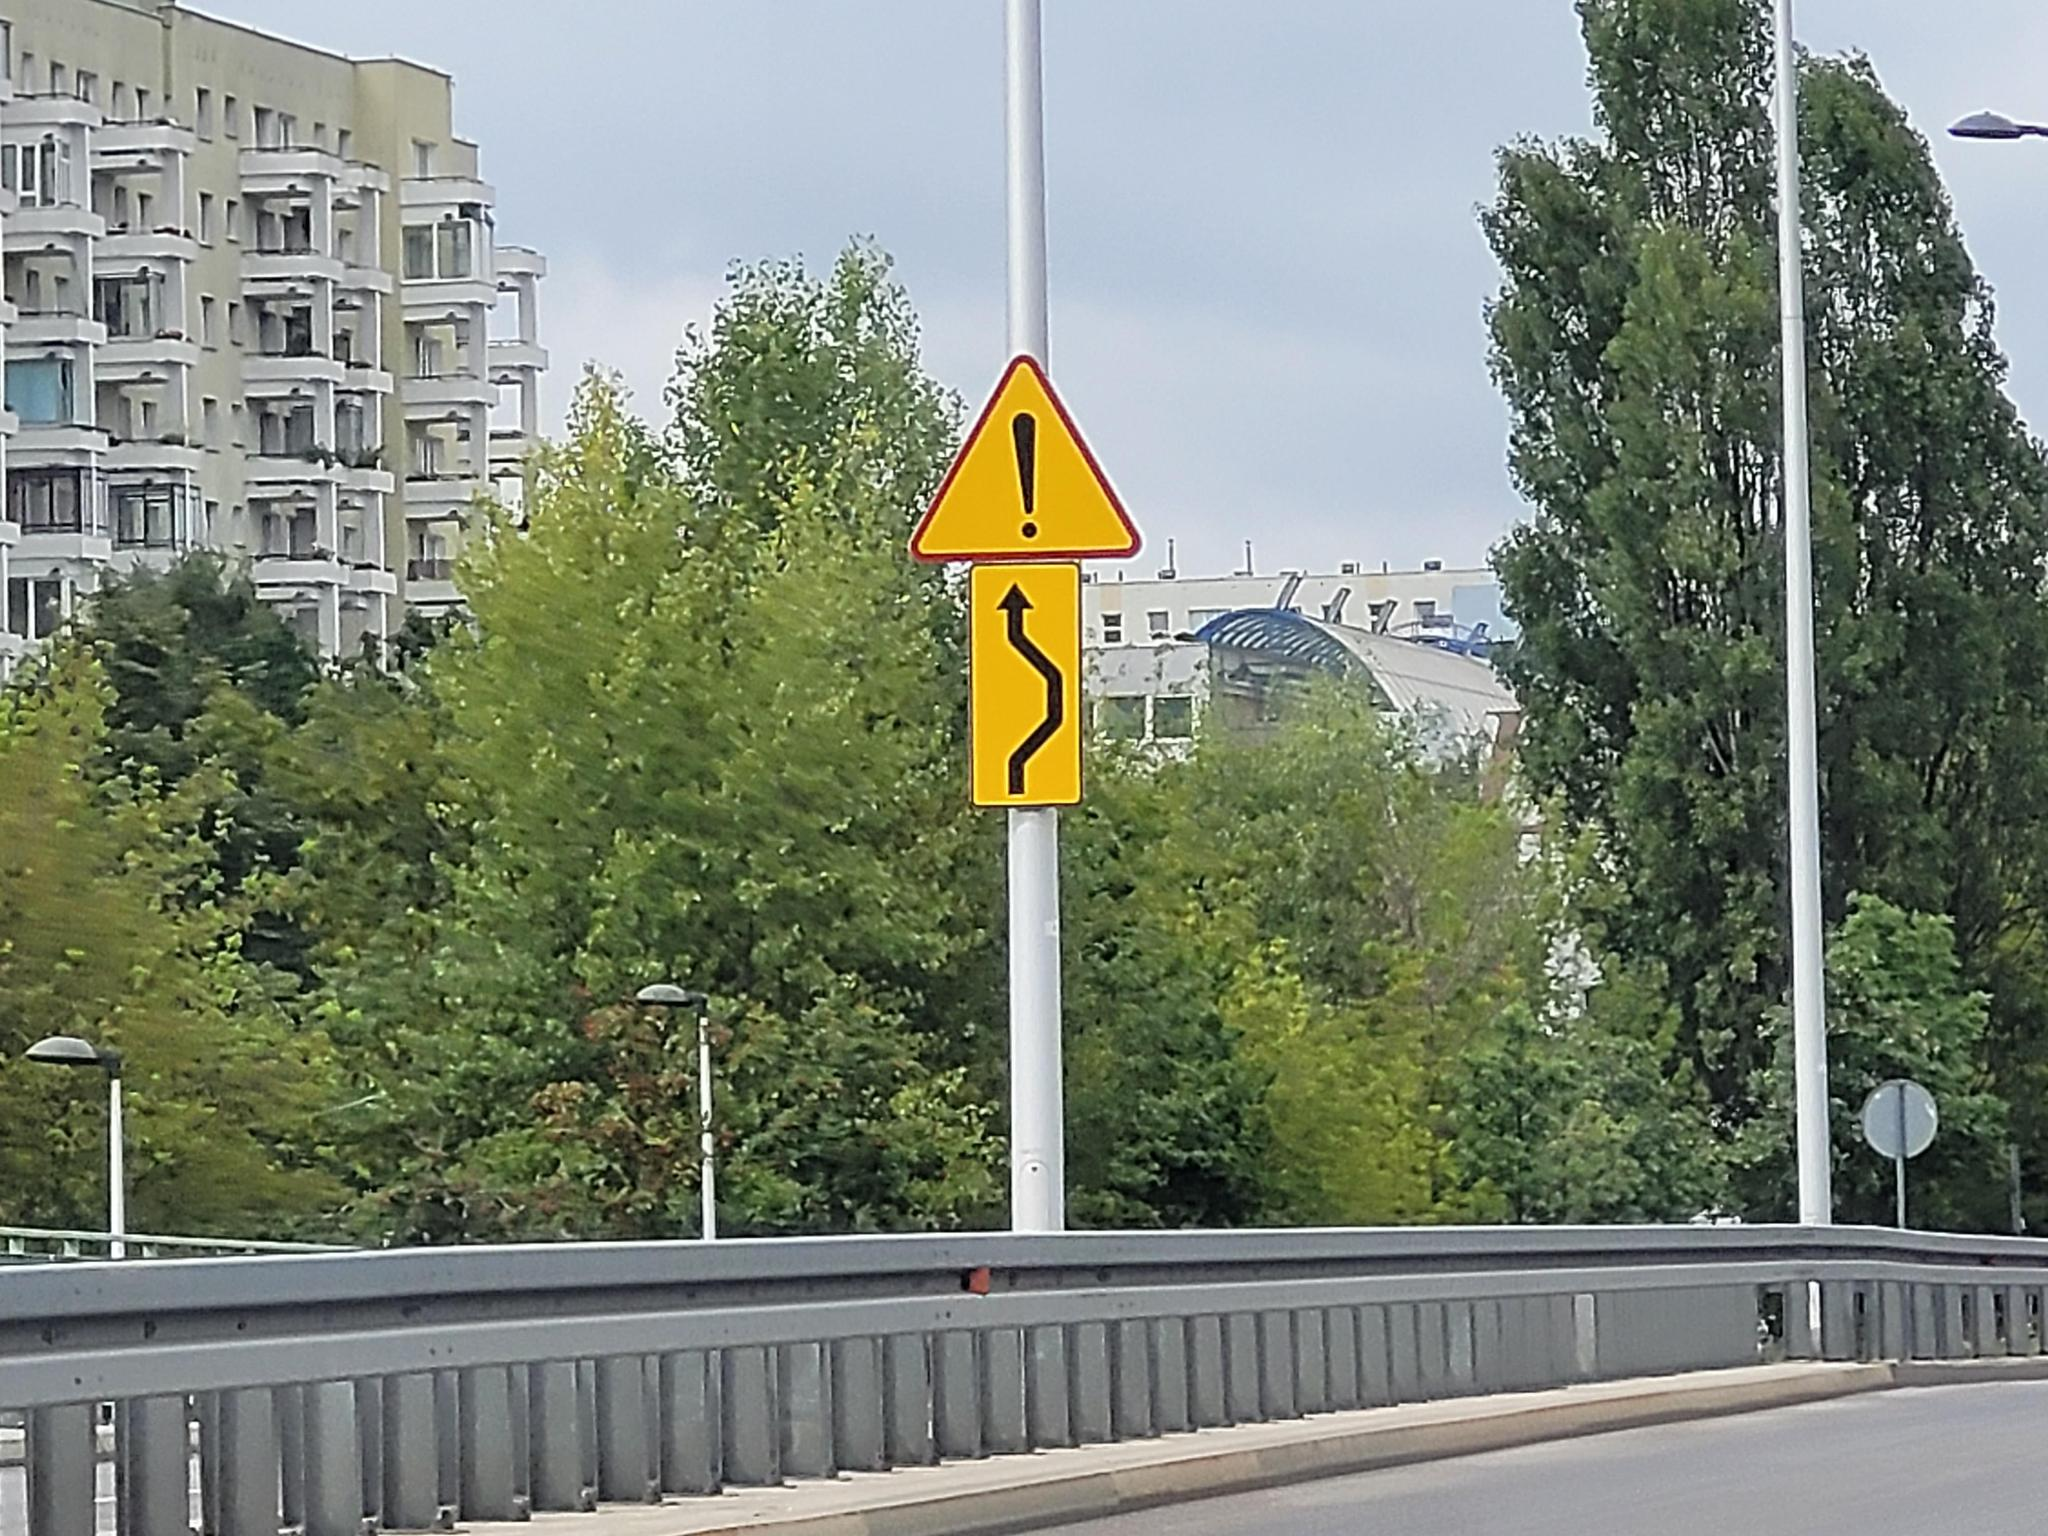other: (972, 563, 1082, 800)
warning: (906, 353, 1145, 561)
